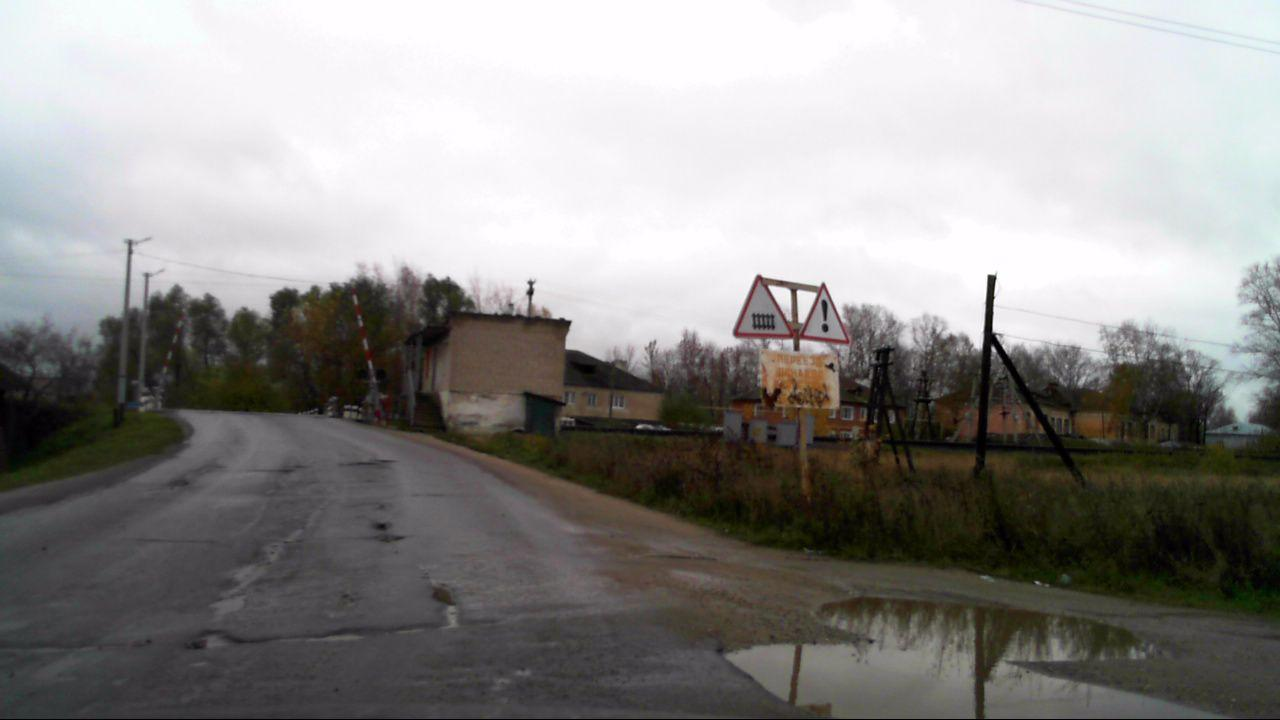1_1: (732, 274, 793, 339)
1_33: (801, 281, 851, 345)
